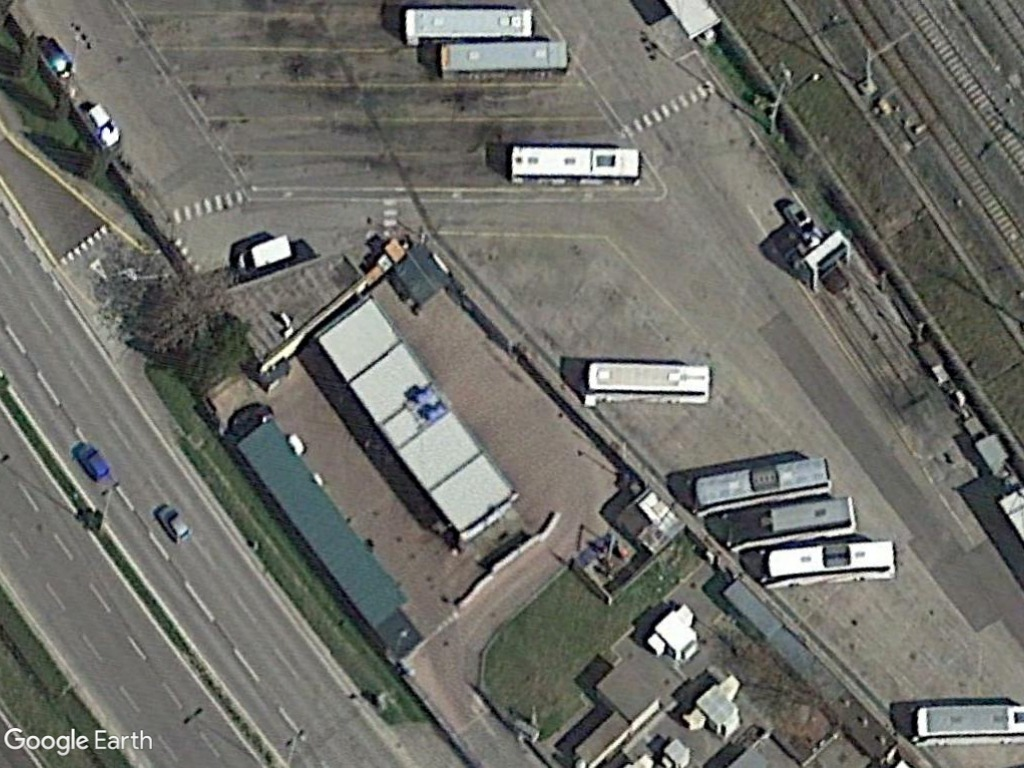bus: (685, 449, 836, 517), (715, 492, 857, 555), (751, 534, 896, 592), (577, 355, 715, 410), (503, 140, 645, 190), (399, 2, 537, 50), (904, 695, 1024, 750), (437, 38, 571, 82)
car: (151, 501, 195, 546), (71, 440, 113, 482)
van: (232, 233, 299, 278)
